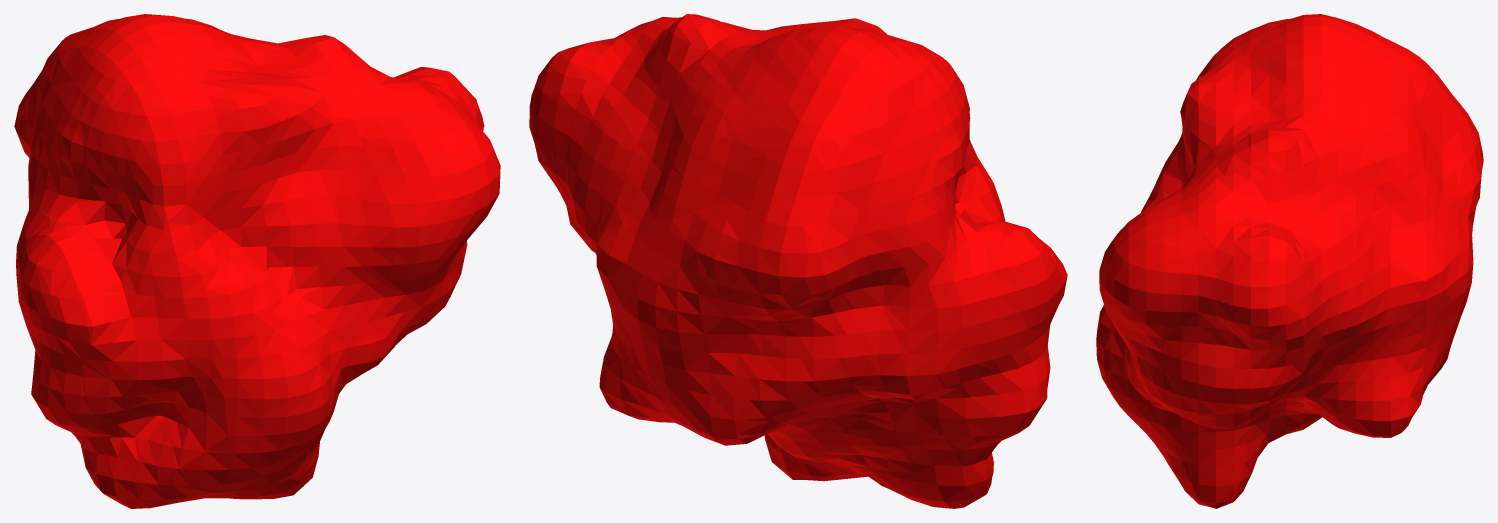
Rendered from yrbL_coarse.dae.
3 views of the same model, side by side, from view 1: azimuth 30°, elevation 25°; view 2: azimuth 150°, elevation 25°; view 3: azimuth 270°, elevation 25° (orthographic). The views are drawn at different scales.
Parts seen in each view (by area): view 1: yrbL; view 2: yrbL; view 3: yrbL.
Part boxes in pixels (left/top/right/bottom): yrbL: left=14, top=14, right=500, bottom=508; yrbL: left=529, top=14, right=1067, bottom=508; yrbL: left=1096, top=14, right=1483, bottom=508.
Bounding box in the file's own units: 55.07 × 53.01 × 41.71.
